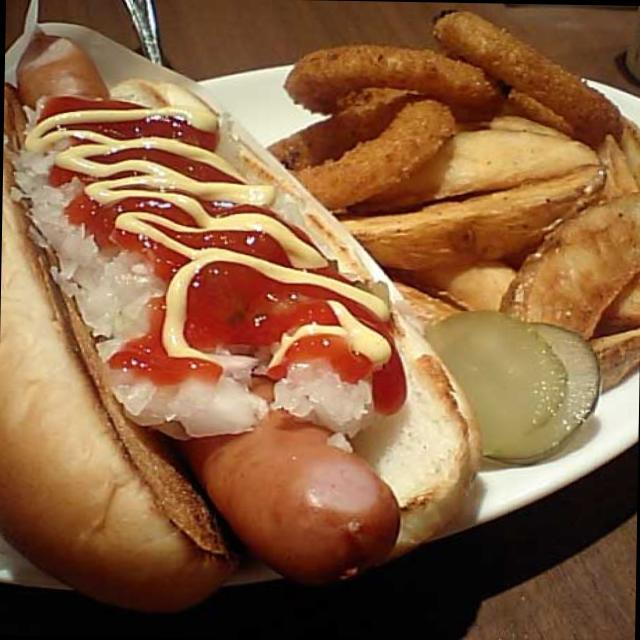Hot Dog: (67, 46, 315, 550)
